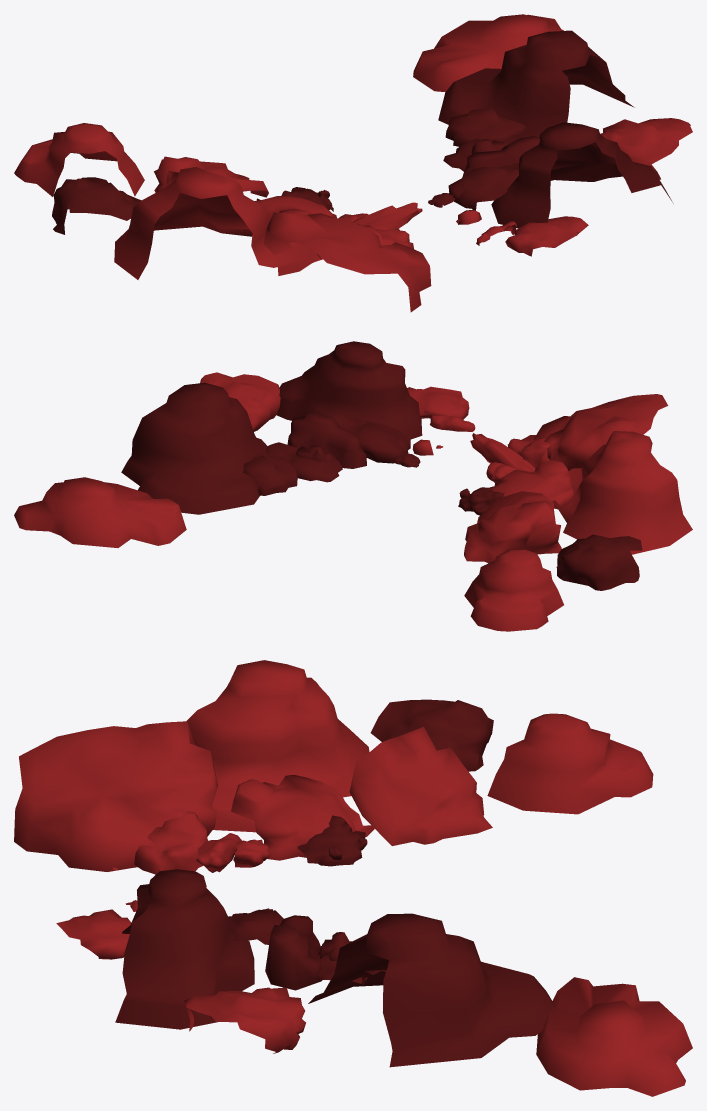
File: GoblinMap03_RedRock.fbx
3 views of the same model, one above another, from view 1: azimuth 30°, elevation 25°; view 2: azimuth 150°, elevation 25°; view 3: azimuth 270°, elevation 25° (orthographic). The views are drawn at different scales.
Visible parts, largest first — view 1: RedRock, RedRock_dark; view 2: RedRock, RedRock_dark; view 3: RedRock, RedRock_dark.
Part boxes in pixels (<box>): RedRock: <box>14,14,692,312</box>; RedRock_dark: <box>52,30,673,234</box>; RedRock: <box>14,372,692,631</box>; RedRock_dark: <box>121,341,642,590</box>; RedRock: <box>14,660,692,1096</box>; RedRock_dark: <box>115,699,555,1067</box>.
Size of the model in its own units: 2975 by 443 by 2380.
